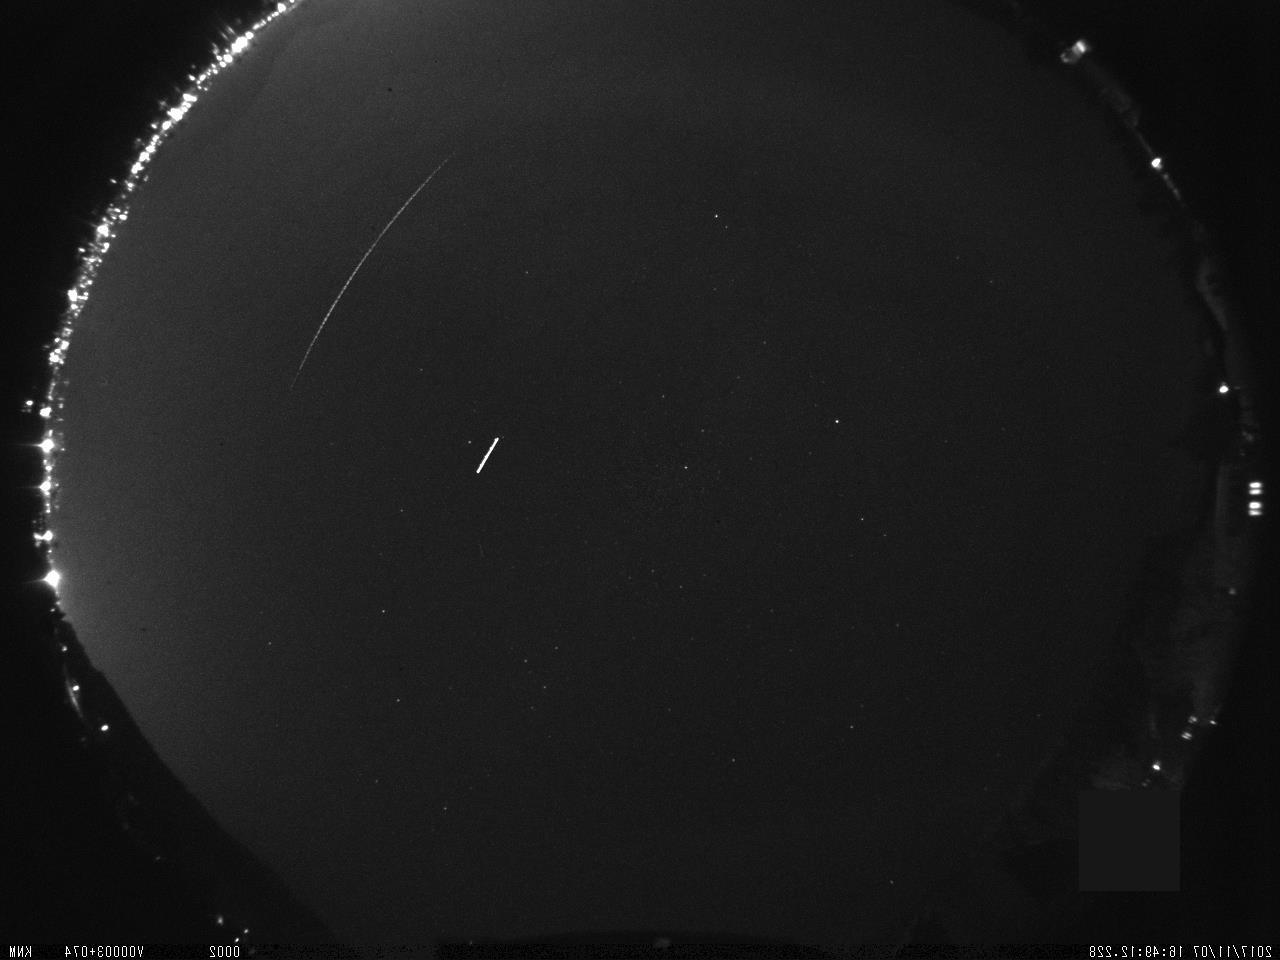meteor: (275, 138, 468, 402)
satelite: (470, 433, 505, 483)
